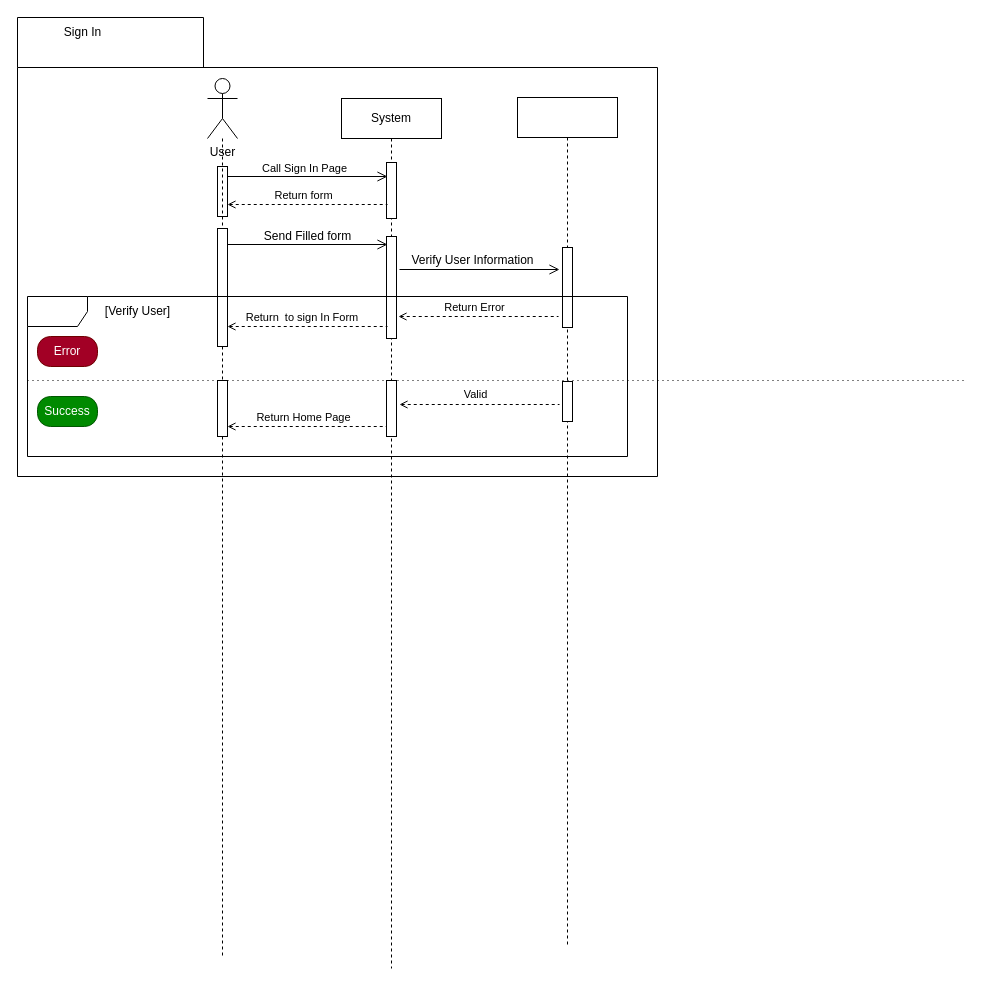
Some shapes in this 985 by 986 pixel diagram are drawn without their labels. Here are the shapes that lost their labels. From the top down, the box of each, then its label:
(26, 296, 628, 456): Alt
(516, 96, 618, 946): Database
